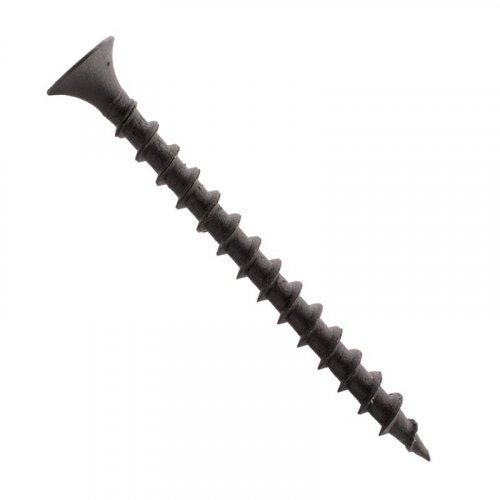Tornillo: (42, 33, 434, 464)
